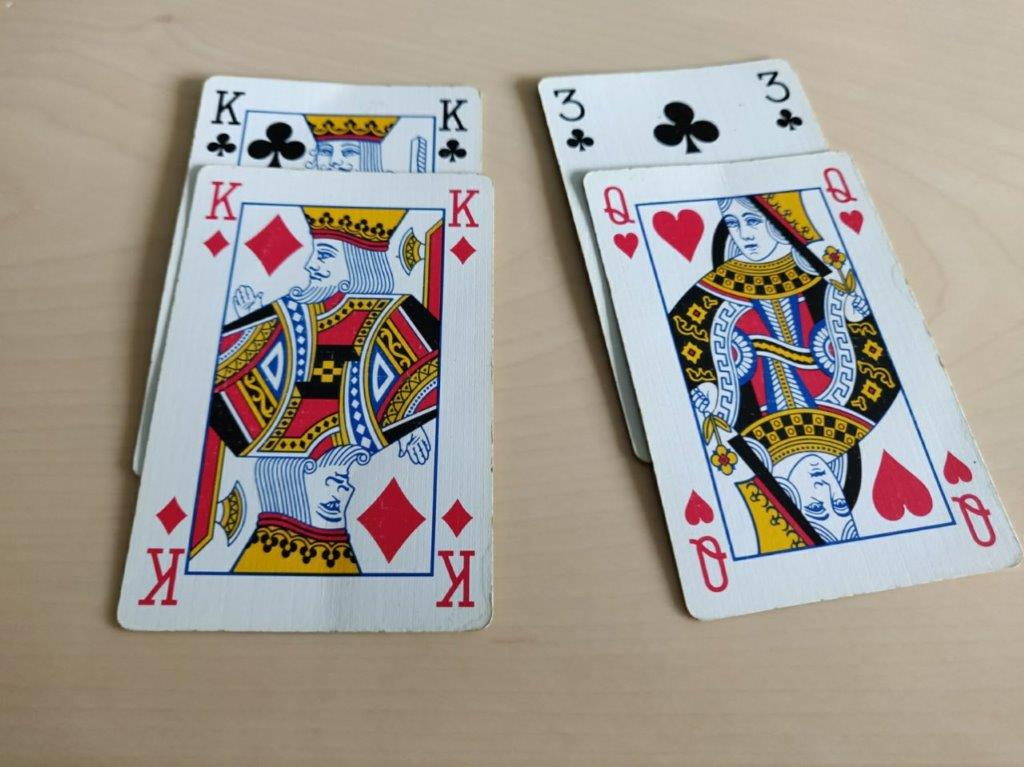3C: (545, 79, 599, 155), (756, 67, 810, 143)
KC: (199, 83, 247, 159), (431, 93, 479, 169)
KD: (197, 176, 246, 259), (443, 186, 483, 269)
QH: (596, 181, 646, 266), (819, 157, 869, 242)
